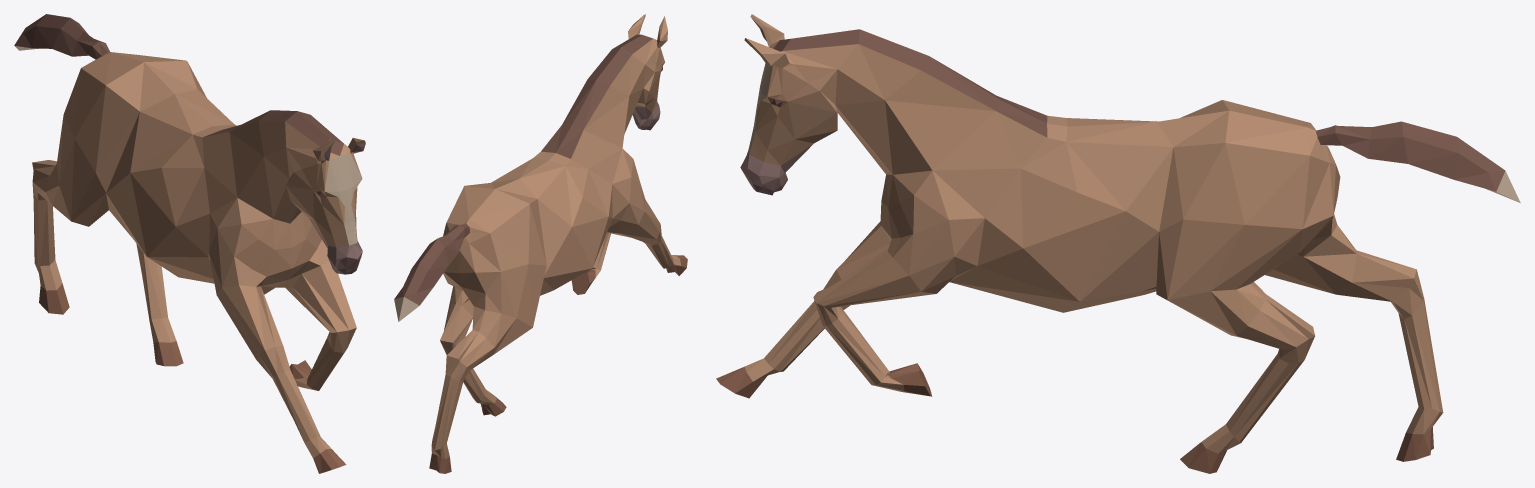
Rendered from Horse.glb.
The picture shows the model from 3 angles, left to right: view 1: azimuth 30°, elevation 25°; view 2: azimuth 150°, elevation 25°; view 3: azimuth 270°, elevation 25°; orthographic projection. The views are drawn at different scales.
Visible parts, largest first — view 1: mesh_0; view 2: mesh_0; view 3: mesh_0.
Boxes of the visible parts, x1,y1,x2,y2 form: mesh_0: (14,14,365,473); mesh_0: (394,14,687,473); mesh_0: (716,14,1520,473).
Bounding box in the file's own units: 60.59 × 176 × 289.
